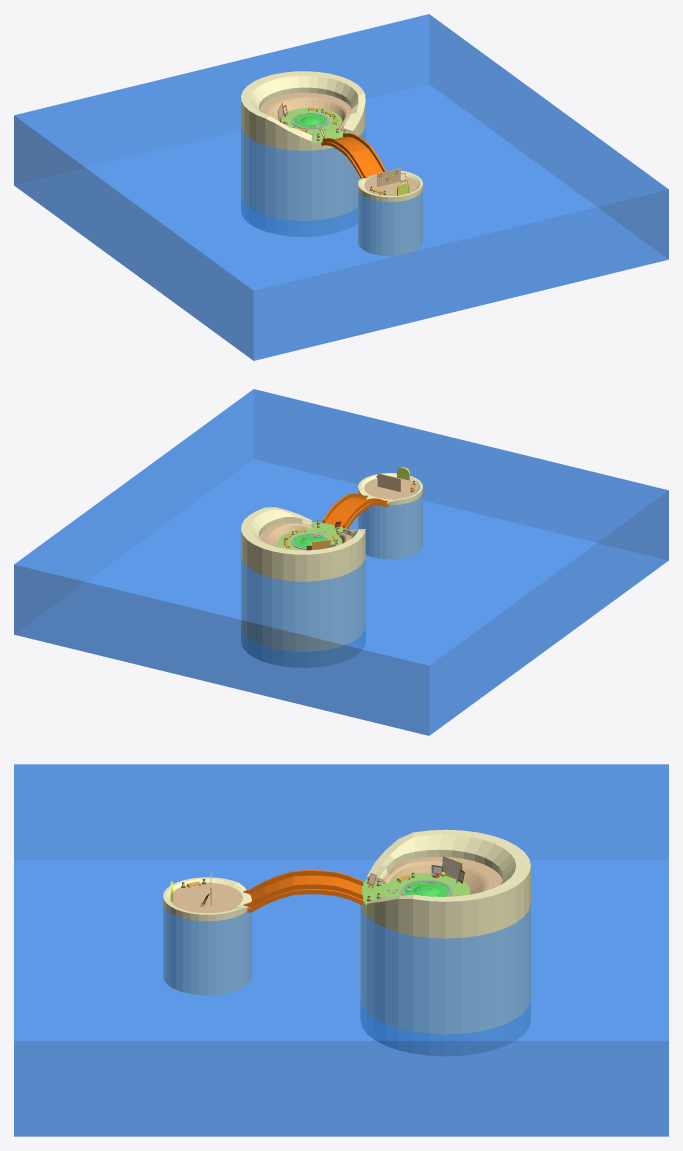
The model's file is MemorialRoom_without_object.fbx.
3 views of the same model, one above another, from view 1: azimuth 30°, elevation 25°; view 2: azimuth 150°, elevation 25°; view 3: azimuth 270°, elevation 25° (orthographic). The views are drawn at different scales.
Parts seen in each view (by area): view 1: Sea, Hall, Entrance, Bridge; view 2: Sea, Hall, Entrance, Bridge; view 3: Sea, Hall, Entrance, Bridge.
Part boxes in pixels (x1,y1,x2,y2): Sea: (14,14,668,360); Hall: (241,71,365,236); Entrance: (358,170,422,256); Bridge: (321,133,386,178); Sea: (14,389,668,735); Hall: (241,507,365,667); Entrance: (358,473,422,559); Bridge: (321,493,388,529); Sea: (14,764,668,1136); Hall: (360,829,530,1055); Entrance: (163,877,251,995); Bridge: (243,870,363,912).
Bounding box in the file's own units: 43995 × 11453 × 43995.
